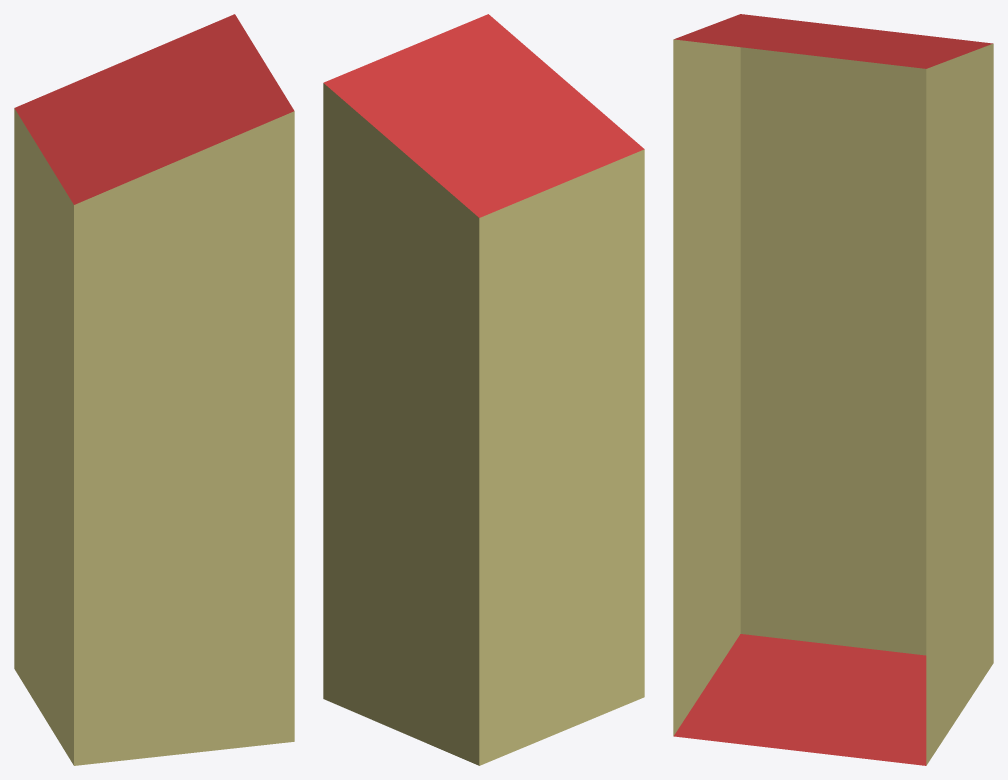
The picture shows the model from 3 angles, left to right: view 1: azimuth 30°, elevation 25°; view 2: azimuth 150°, elevation 25°; view 3: azimuth 270°, elevation 25°; orthographic projection. The views are drawn at different scales.
Visible parts, largest first — view 1: group_4, group_3; view 2: group_4, group_3; view 3: group_4, group_5, group_3.
Part boxes in pixels (x1,y1,x2,y2): group_4: [14, 108, 294, 765]; group_3: [14, 14, 294, 204]; group_4: [323, 83, 644, 765]; group_3: [323, 14, 644, 217]; group_4: [673, 39, 993, 765]; group_5: [673, 634, 926, 765]; group_3: [674, 14, 992, 68].
Size of the model in its own units: 4.24 by 4.34 by 10.44.
